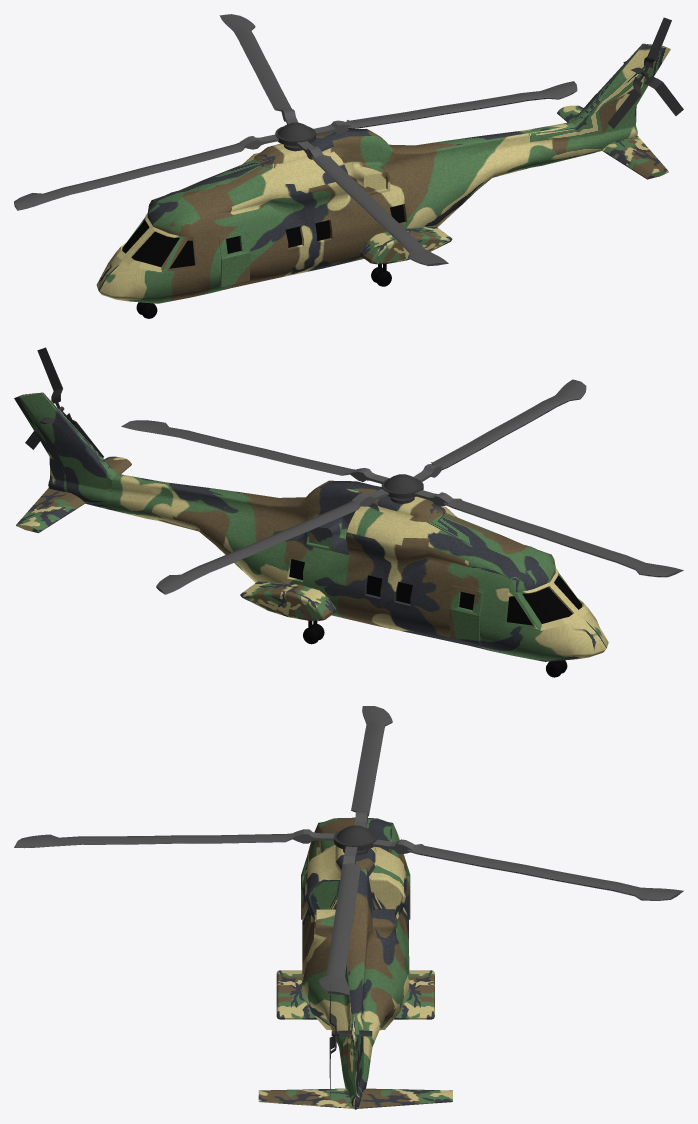
File: helicopter.fbx
3 renders of one model, top to bottom at view 1: azimuth 30°, elevation 25°; view 2: azimuth 150°, elevation 25°; view 3: azimuth 270°, elevation 25°, orthographic. The views are drawn at different scales.
Visible parts, largest first — view 1: polySurface26, polySurface31, polySurface9, polySurface29, polySurface19, polySurface30, pCube9, pCube13, pCube25, pCylinder14, pCylinder15; view 2: polySurface26, polySurface29, polySurface19, polySurface30, polySurface31, pCube22, polySurface9, pCube13, pCube25, pCylinder14, pCylinder15; view 3: polySurface26, polySurface30, pCube13, polySurface9, polySurface31, polySurface29, pCube9, pCube22, pCylinder14.
Boxes of the visible parts, x1=… form: polySurface26: x1=96, y1=43, x2=670, y2=303; polySurface31: x1=314, y1=81, x2=577, y2=135; polySurface9: x1=297, y1=141, x2=448, y2=266; polySurface29: x1=14, y1=134, x2=278, y2=210; polySurface19: x1=122, y1=204, x2=404, y2=268; polySurface30: x1=219, y1=14, x2=298, y2=124; pCube9: x1=360, y1=225, x2=452, y2=264; pCube13: x1=557, y1=105, x2=668, y2=179; pCube25: x1=608, y1=17, x2=683, y2=128; pCylinder14: x1=275, y1=122, x2=315, y2=151; pCylinder15: x1=136, y1=264, x2=391, y2=318; polySurface26: x1=14, y1=392, x2=608, y2=661; polySurface29: x1=414, y1=490, x2=683, y2=577; polySurface19: x1=289, y1=559, x2=581, y2=625; polySurface30: x1=156, y1=489, x2=388, y2=594; polySurface31: x1=121, y1=420, x2=388, y2=483; pCube22: x1=240, y1=581, x2=335, y2=621; polySurface9: x1=413, y1=379, x2=586, y2=481; pCube13: x1=16, y1=456, x2=131, y2=533; pCube25: x1=25, y1=347, x2=103, y2=457; pCylinder14: x1=381, y1=474, x2=423, y2=503; pCylinder15: x1=303, y1=620, x2=567, y2=677; polySurface26: x1=301, y1=817, x2=410, y2=1109; polySurface30: x1=372, y1=839, x2=683, y2=900; pCube13: x1=258, y1=1088, x2=452, y2=1108; polySurface9: x1=14, y1=829, x2=334, y2=848; polySurface31: x1=318, y1=846, x2=360, y2=995; polySurface29: x1=351, y1=706, x2=392, y2=827; pCube9: x1=276, y1=970, x2=317, y2=1019; pCube22: x1=394, y1=970, x2=434, y2=1019; pCylinder14: x1=333, y1=825, x2=377, y2=854.
Bounding box in the file's own units: 18.37 × 4.98 × 15.2.
9 materials, 3 textured.
